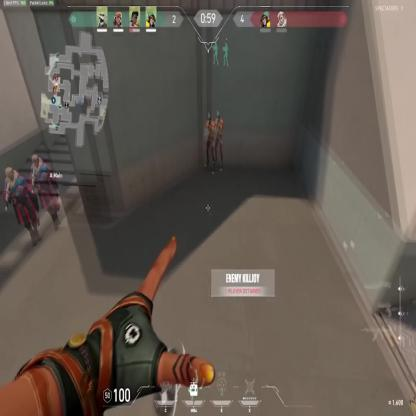enemy: (2, 166, 40, 244), (205, 111, 215, 173)
enemy_head: (4, 167, 14, 181), (208, 113, 212, 121)
